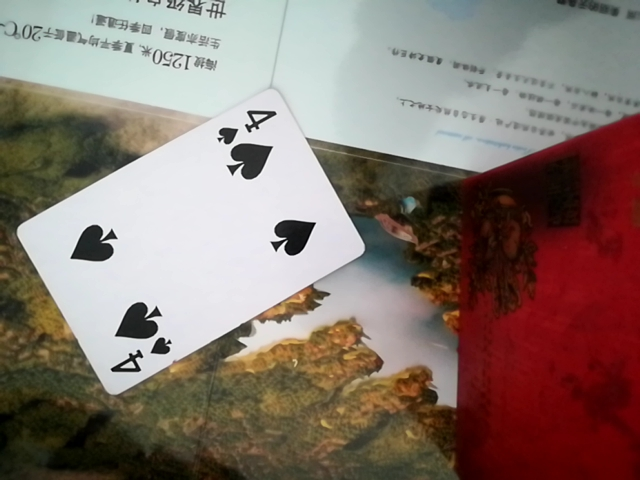ht 4: (19, 86, 370, 400)
